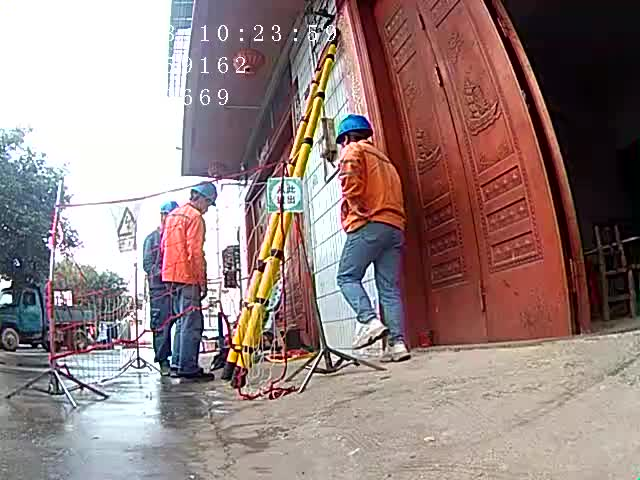halt: (338, 117, 376, 149), (190, 184, 220, 213), (161, 202, 183, 224)
